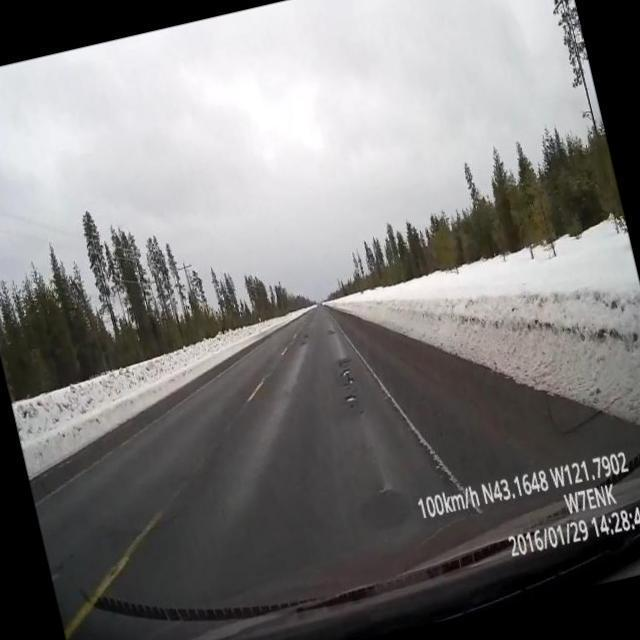Pothole: (345, 393, 359, 402), (341, 368, 350, 377), (347, 377, 354, 384)
